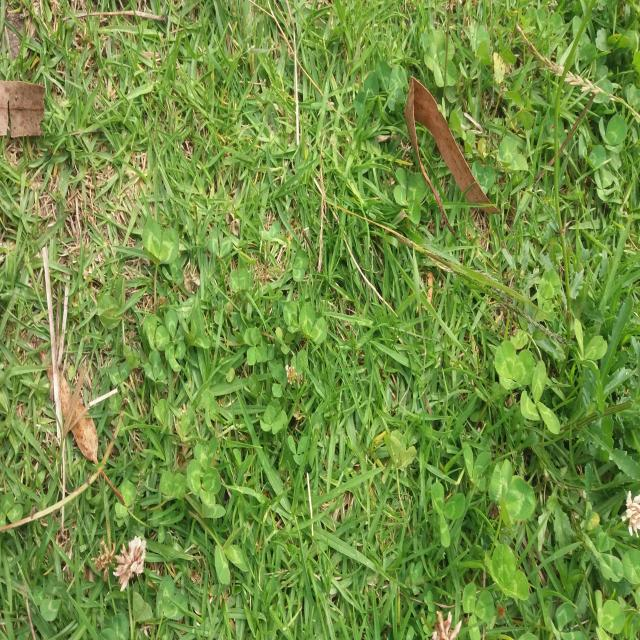Four Leaf Clover: (393, 167, 426, 224), (424, 35, 457, 87), (244, 326, 264, 365)
